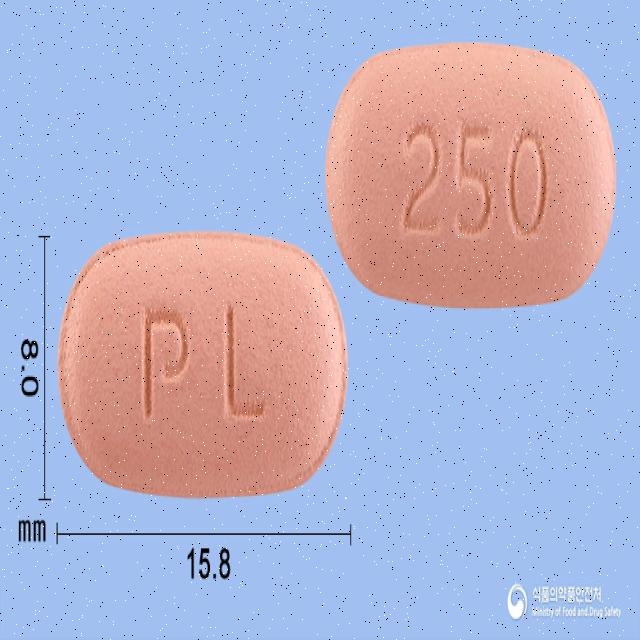Levoxacin -500mg: (327, 42, 618, 309), (58, 233, 348, 497)
